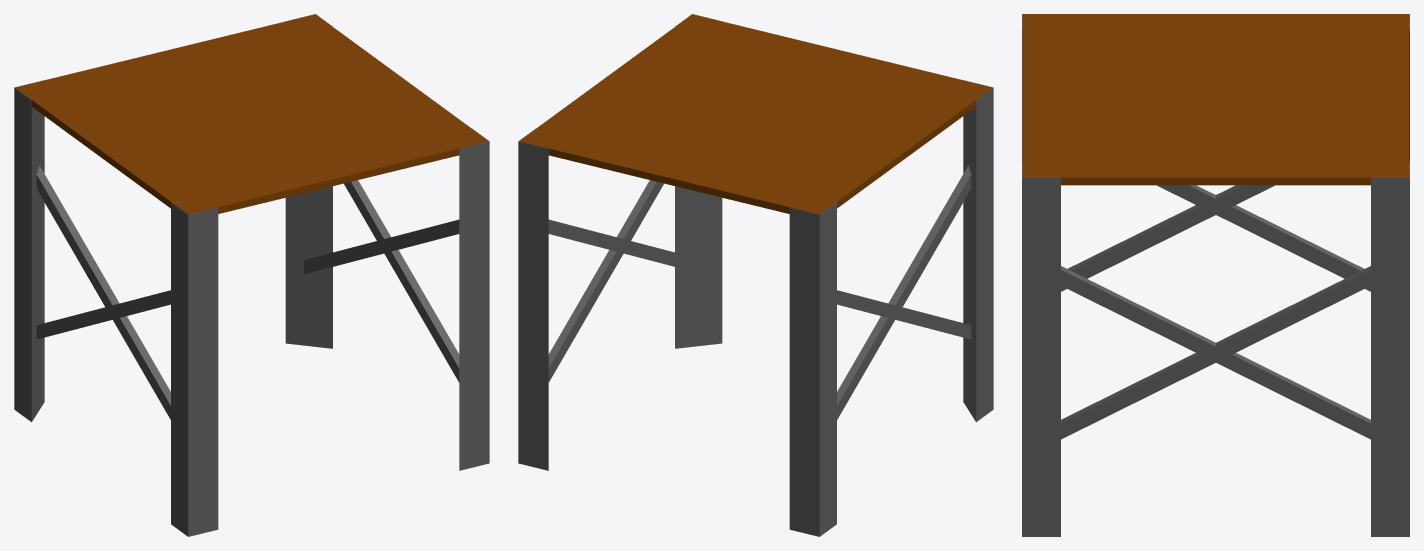
File: Table_3DPrinter.fbx
The picture shows the model from 3 angles, left to right: view 1: azimuth 30°, elevation 25°; view 2: azimuth 150°, elevation 25°; view 3: azimuth 270°, elevation 25°; orthographic projection. The views are drawn at different scales.
Parts seen in each view (by area): view 1: Table_prof; view 2: Table_prof; view 3: Table_prof.
Part boxes in pixels (bbox=[...]): Table_prof: bbox=[14, 14, 489, 536]; Table_prof: bbox=[518, 14, 993, 536]; Table_prof: bbox=[1022, 14, 1409, 536].
Bounding box in the file's own units: 200 × 204 × 200.
